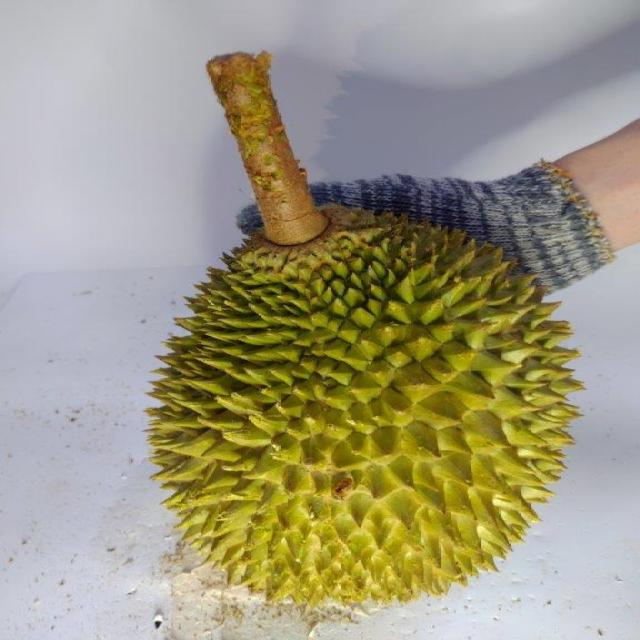immature: (148, 197, 585, 617)
